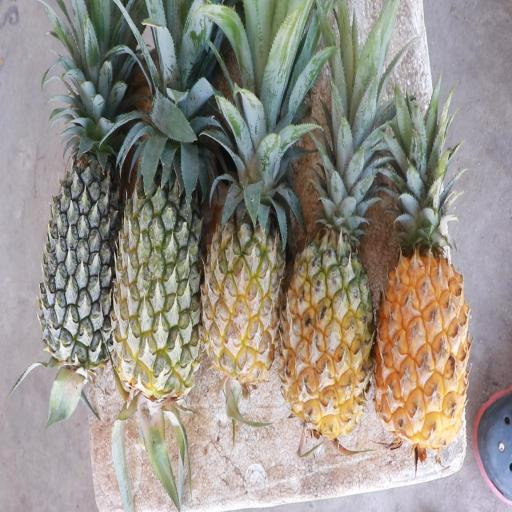------------------------------: (116, 132, 204, 394)
Pineapple - v8 v1: (281, 189, 377, 434), (373, 221, 469, 440), (203, 156, 286, 383)
